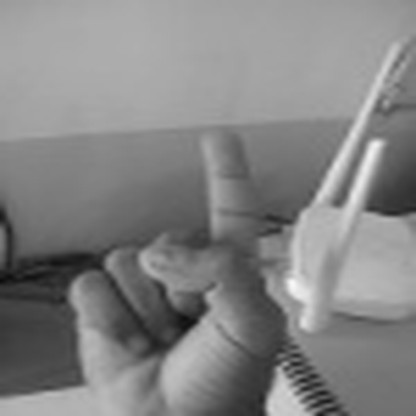d: (55, 117, 287, 416)
